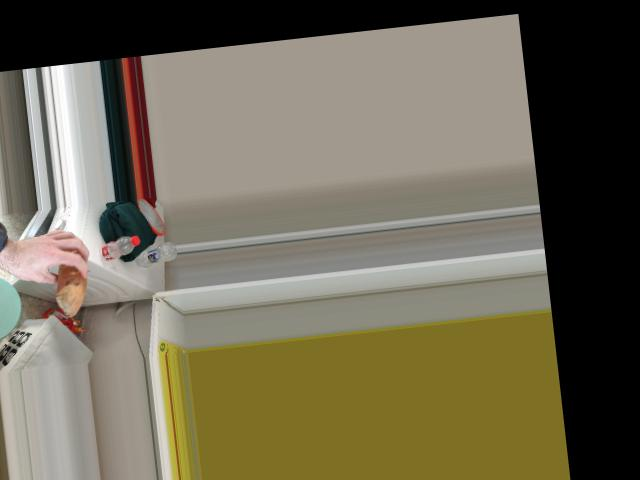sweet_potato: (58, 255, 85, 304)
